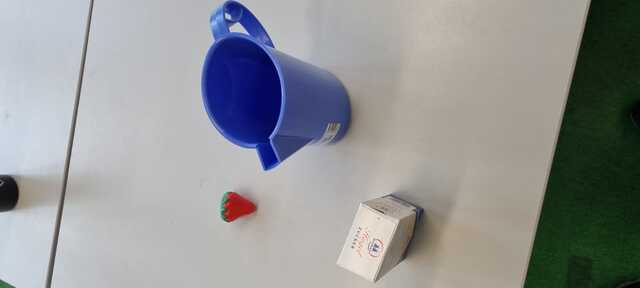004_sugar_box: (336, 194, 423, 285)
012_strawberry: (219, 191, 259, 223)
019_pitcher_base: (200, 1, 352, 171)
